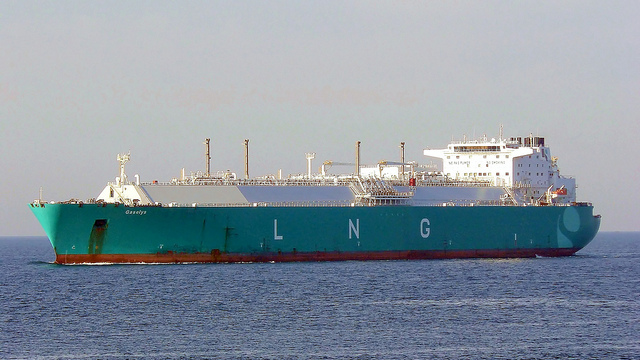LNG_ship: (27, 125, 599, 264)
